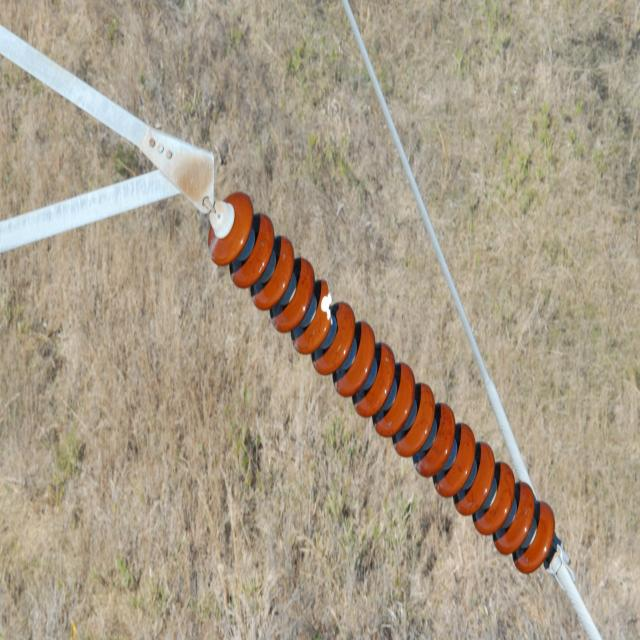broken: (321, 278, 334, 328)
insulator: (208, 189, 554, 576)
